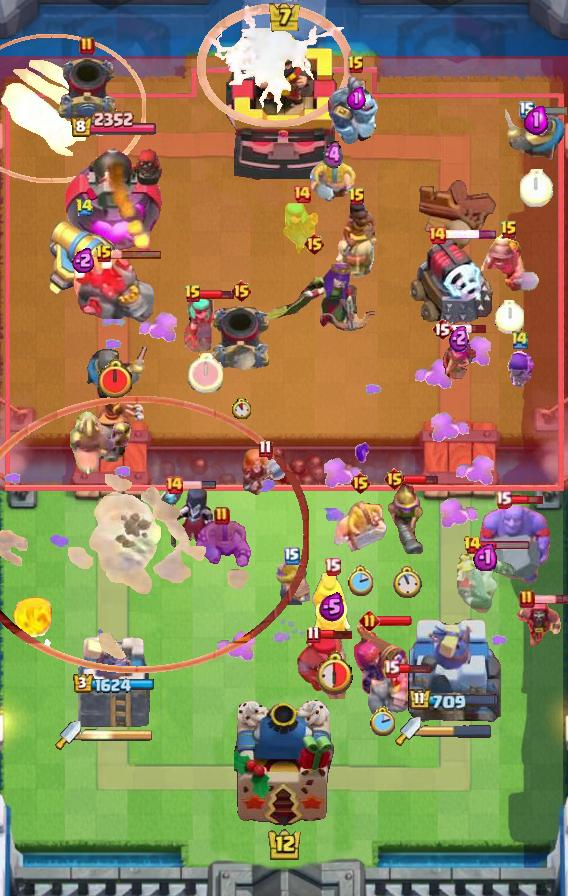archer: (440, 333, 478, 381)
bar: (445, 229, 498, 240), (111, 249, 163, 260), (480, 540, 531, 551), (403, 473, 439, 486), (199, 288, 235, 301), (509, 493, 544, 506), (451, 323, 488, 335), (377, 615, 413, 627), (318, 629, 354, 640), (397, 663, 432, 674), (533, 594, 568, 605), (533, 105, 568, 116), (181, 480, 217, 490)
bar-level: (349, 471, 372, 495), (383, 467, 406, 491), (230, 279, 253, 303), (303, 232, 326, 256), (431, 317, 453, 341), (359, 610, 380, 631), (510, 329, 530, 350), (164, 475, 184, 495), (427, 225, 447, 245), (292, 184, 312, 204), (463, 535, 482, 555), (75, 198, 94, 217), (184, 284, 202, 304), (95, 244, 113, 264), (500, 220, 518, 240), (348, 187, 366, 207), (347, 55, 365, 75), (383, 659, 400, 678), (324, 557, 341, 576), (495, 490, 512, 509), (519, 589, 535, 609), (214, 506, 230, 526), (79, 36, 95, 56), (284, 547, 300, 565), (519, 101, 535, 119), (306, 625, 321, 644), (258, 439, 273, 458)
cannoneer-tower: (64, 138, 165, 256)
clock: (312, 650, 353, 695), (96, 359, 134, 400), (188, 353, 223, 393), (520, 169, 553, 207), (495, 300, 524, 334), (393, 566, 422, 599), (347, 565, 373, 596), (369, 706, 395, 736), (232, 398, 251, 419)
dagger-duchess-tower: (405, 611, 501, 731), (75, 623, 153, 731)
dagger-duchess-tower-bar: (81, 728, 153, 742), (421, 724, 493, 738)
elite-barbarian: (191, 519, 253, 571), (334, 500, 387, 552), (309, 159, 357, 202), (274, 559, 310, 606)
elixir: (319, 592, 345, 622), (524, 104, 549, 135), (473, 542, 497, 571), (72, 247, 96, 273), (323, 140, 343, 171), (449, 324, 469, 352), (347, 86, 366, 110)
firecracker-evolution: (353, 622, 411, 696)
golemite: (367, 669, 433, 729)
hunter: (295, 635, 353, 699)
king-tower: (226, 33, 342, 181), (234, 700, 334, 826)
knight: (505, 109, 567, 161), (84, 347, 147, 395)
mega-minion: (326, 75, 386, 145)
miner: (477, 229, 541, 295)
mortar: (209, 305, 273, 371), (56, 55, 118, 123)
musketeer: (386, 480, 428, 554)
night-witch: (157, 481, 215, 551)
ram-rider: (86, 378, 148, 472), (334, 198, 380, 278), (311, 572, 353, 654)
rascal-girl: (182, 296, 228, 352), (279, 203, 325, 257)
royal-ghost: (453, 547, 517, 619)
skeleton-evolution: (506, 351, 535, 389)
tower-bar: (70, 111, 158, 139), (408, 688, 499, 713), (73, 673, 155, 694)
valkyrie: (240, 448, 290, 496)
wizard: (516, 599, 562, 649)
